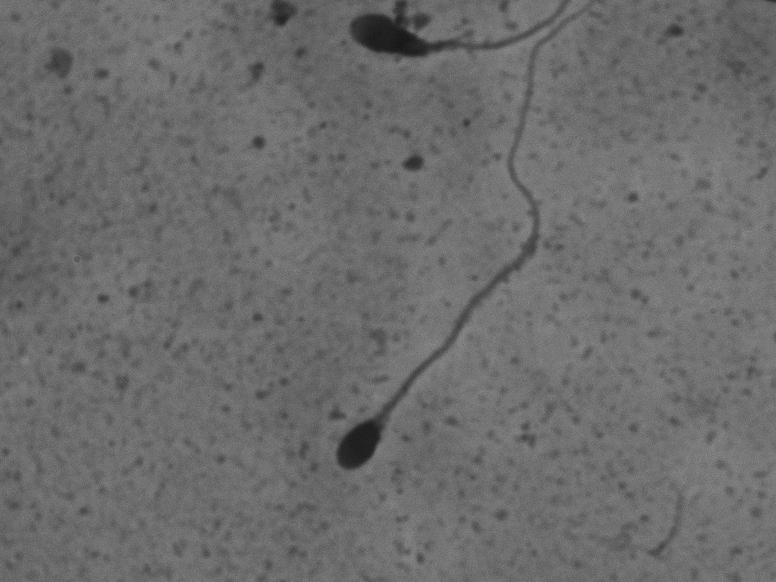Abnormal: (328, 3, 568, 80)
Normal: (313, 0, 599, 479)
